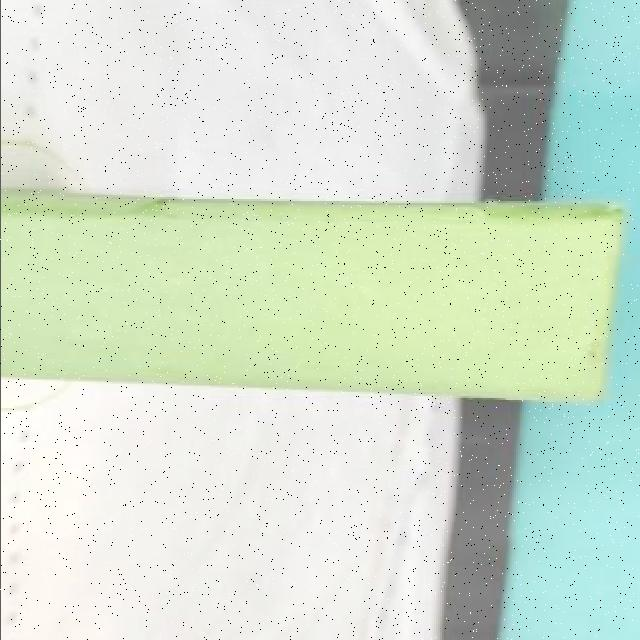greenbox: (0, 190, 634, 410)
